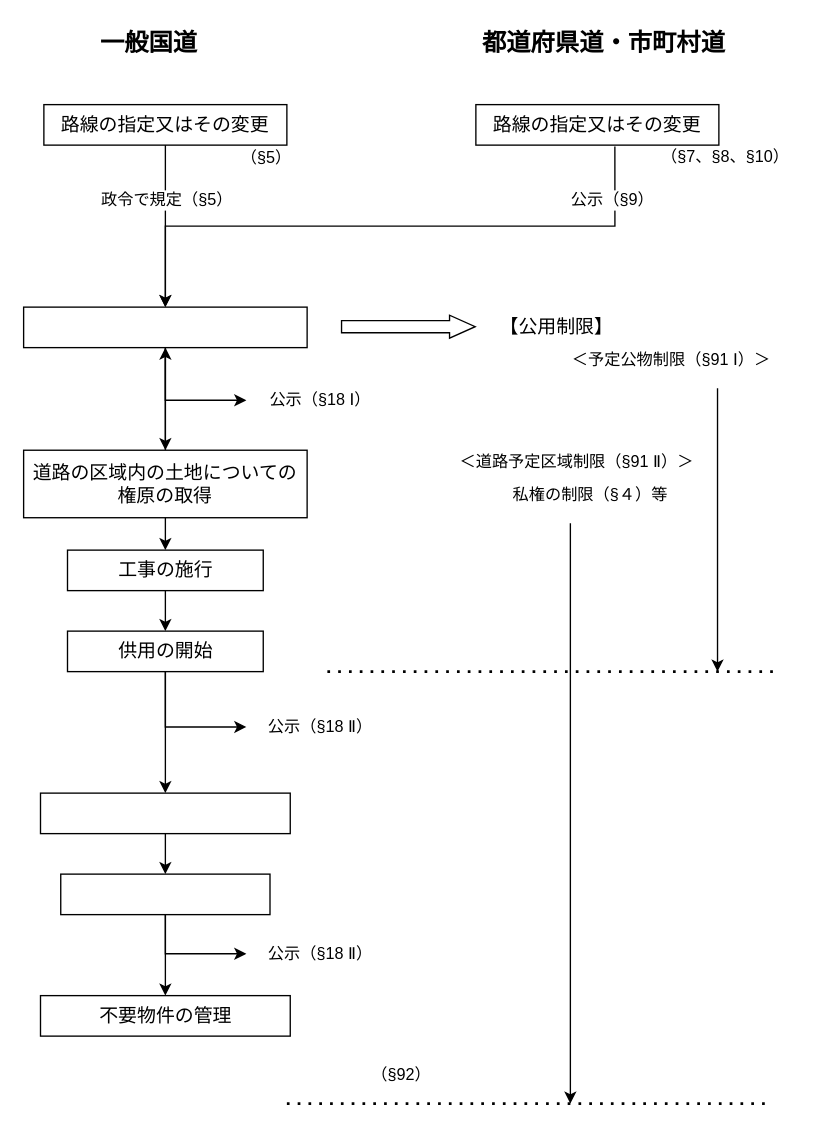
Some shapes in this 824 by 1138 pixel diagram are drawn without their labels. Here are the shapes that lost their labels. From the top down, the box of each, then its label:
(22, 306, 307, 348): 道路の区域の決定又はその変更
(39, 792, 290, 834): 供用中の道路の管理
(59, 873, 270, 915): 供用の廃止
